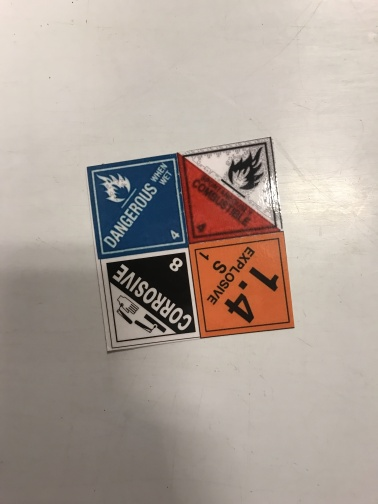Corrosive: (102, 247, 199, 349)
DangerousWhenWet: (87, 152, 188, 259)
Explosive: (190, 232, 295, 340)
SpontaneouslyCombustible: (177, 136, 282, 242)
